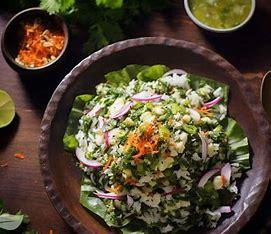Gotukola Mallum: (79, 62, 235, 231)
